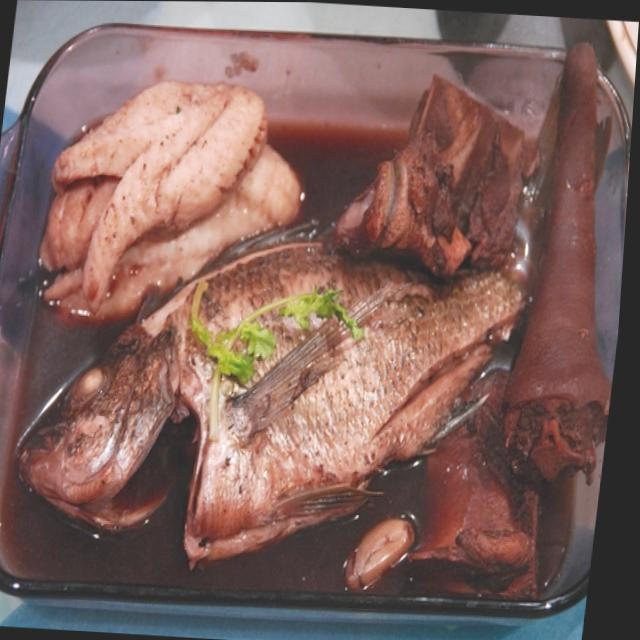汤锅炖物: (0, 42, 618, 592)
